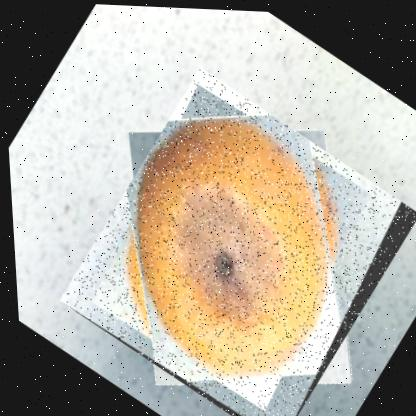orange_rotten: (43, 58, 415, 415)
